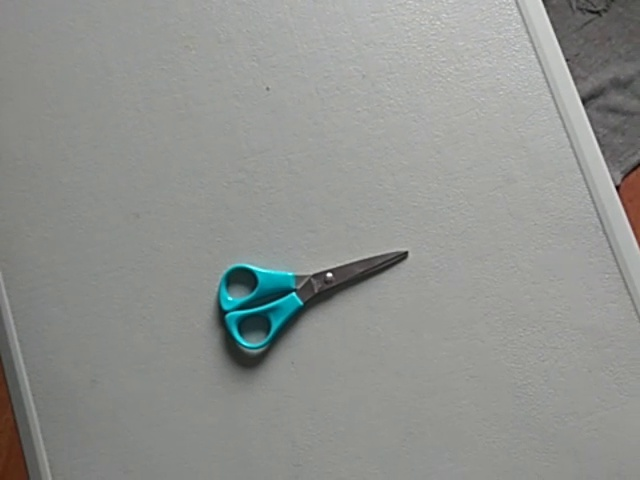Sizer: (212, 244, 413, 363)
